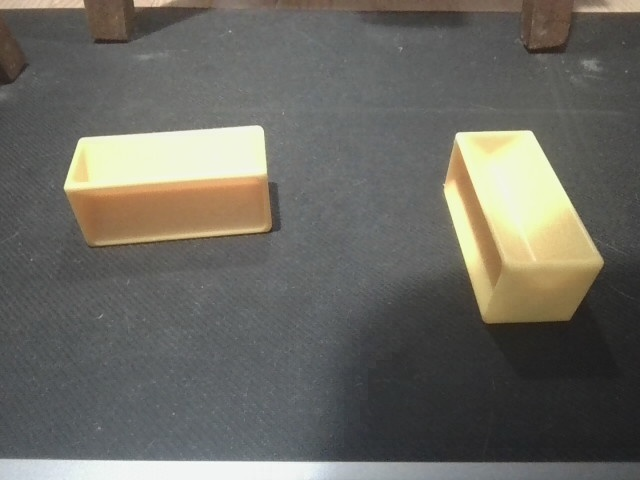YellowSample: (436, 127, 609, 331), (62, 122, 275, 248)
